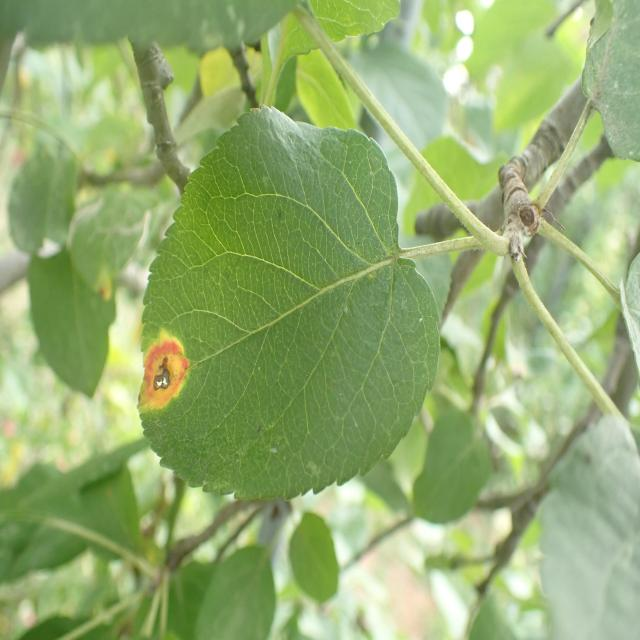Rust: (118, 316, 212, 434)
